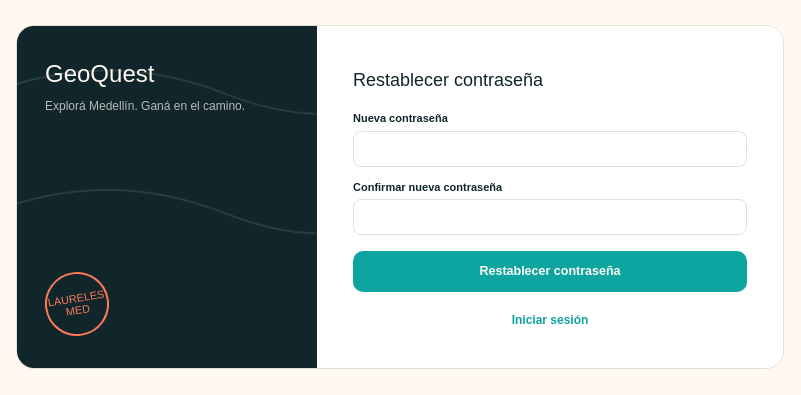
Scenario: ResetPasswordPage › blocks submission with an inline error when the passwords do not match
The width and height of the screenshot is (801, 395).
In the password field labelled "Nueva contraseña": (550, 149) [353,131,747,167], type "password123"
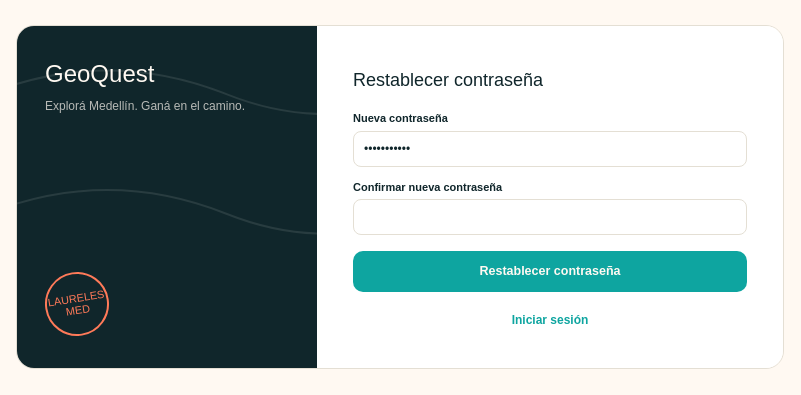
In the password field labelled "Confirmar nueva contraseña": (550, 217) [353,199,747,235], type "different123"
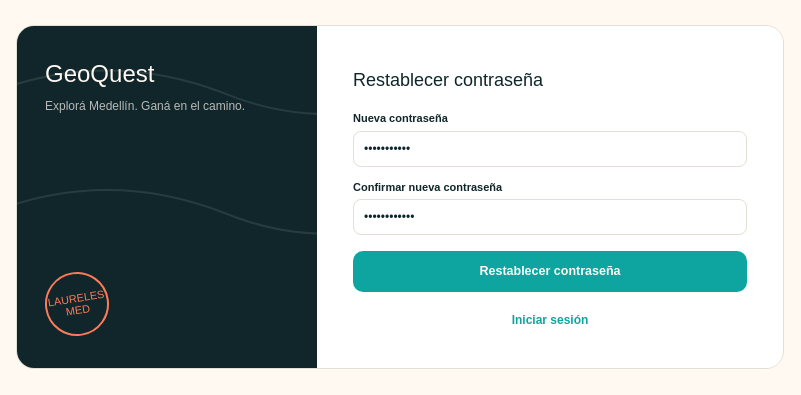
Click the button "Restablecer contraseña": (550, 272) [353,251,747,292]
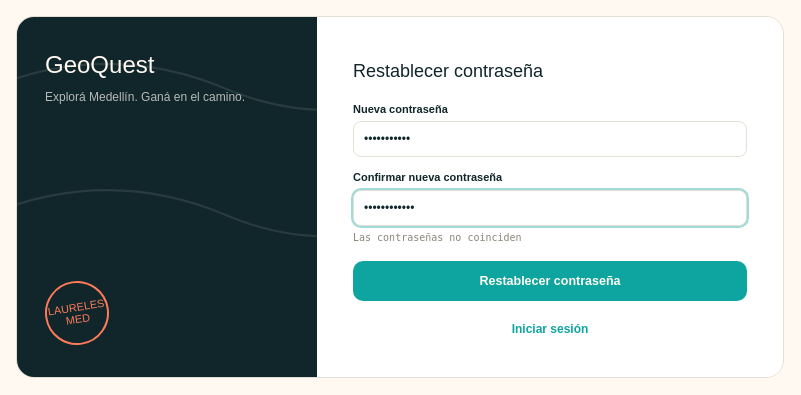
Result: the text "Las contraseñas no coinciden" is shown at [353,232,522,243]
